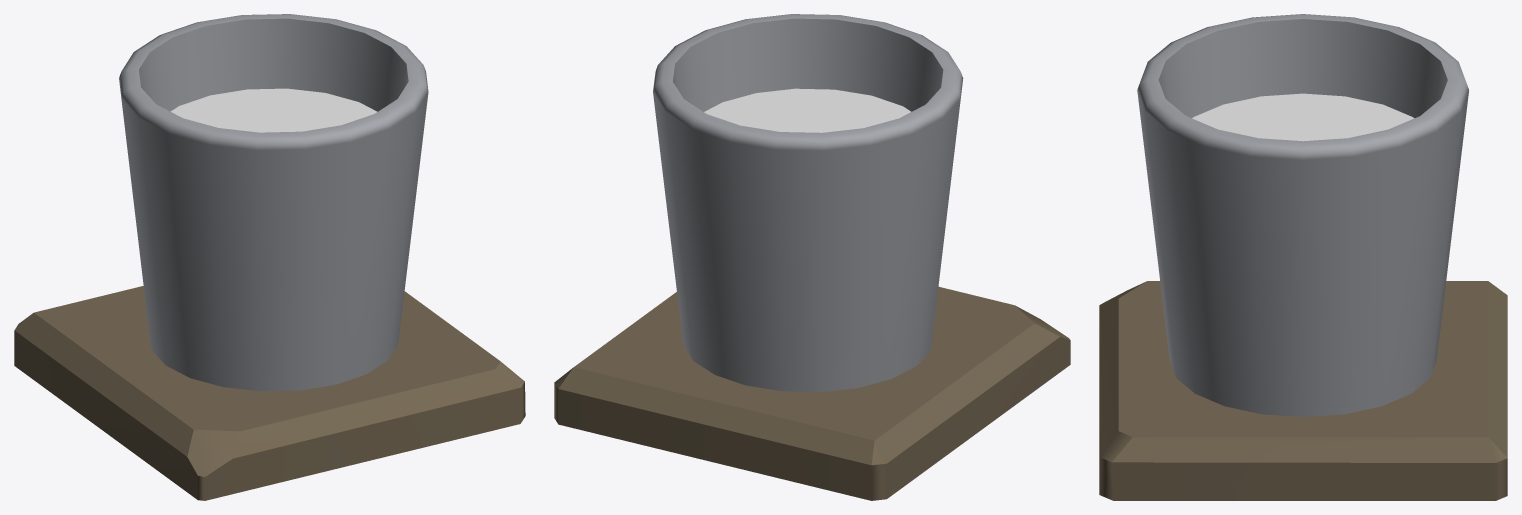
Rendered from SM_CookieTower.fbx.
The picture shows the model from 3 angles, left to right: view 1: azimuth 30°, elevation 25°; view 2: azimuth 150°, elevation 25°; view 3: azimuth 270°, elevation 25°; orthographic projection. The views are drawn at different scales.
Visible parts, largest first — view 1: polySurface112; view 2: polySurface112; view 3: polySurface112.
Part boxes in pixels (bbox=[...]): polySurface112: bbox=[14, 14, 525, 500]; polySurface112: bbox=[554, 14, 1070, 500]; polySurface112: bbox=[1099, 14, 1507, 500].
Size of the model in its own units: 100 by 90.78 by 100.
